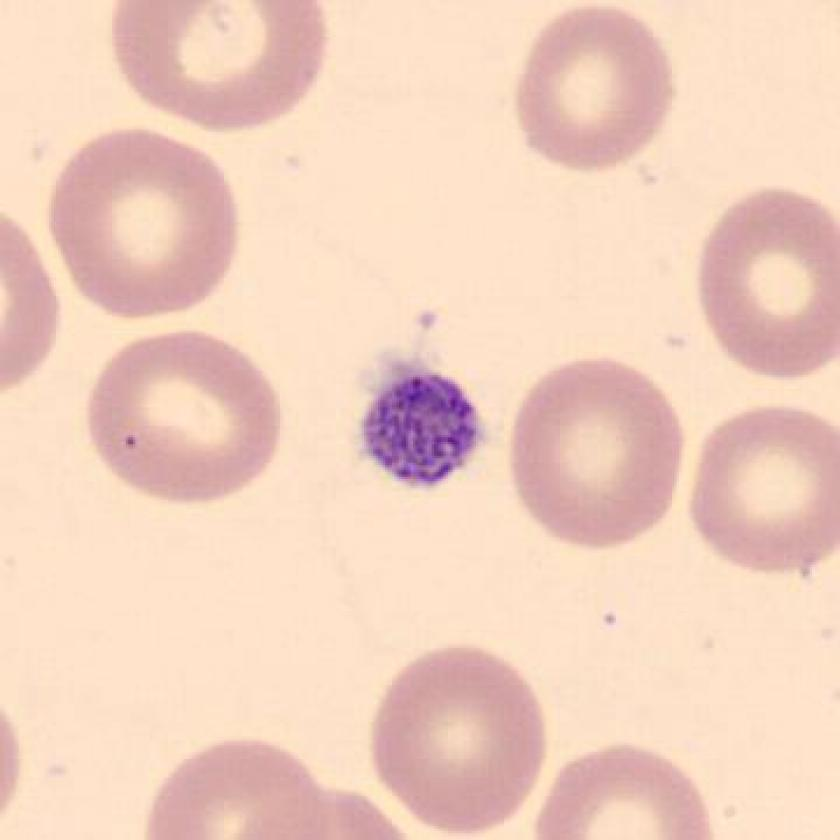platelets: (351, 365, 496, 497)
